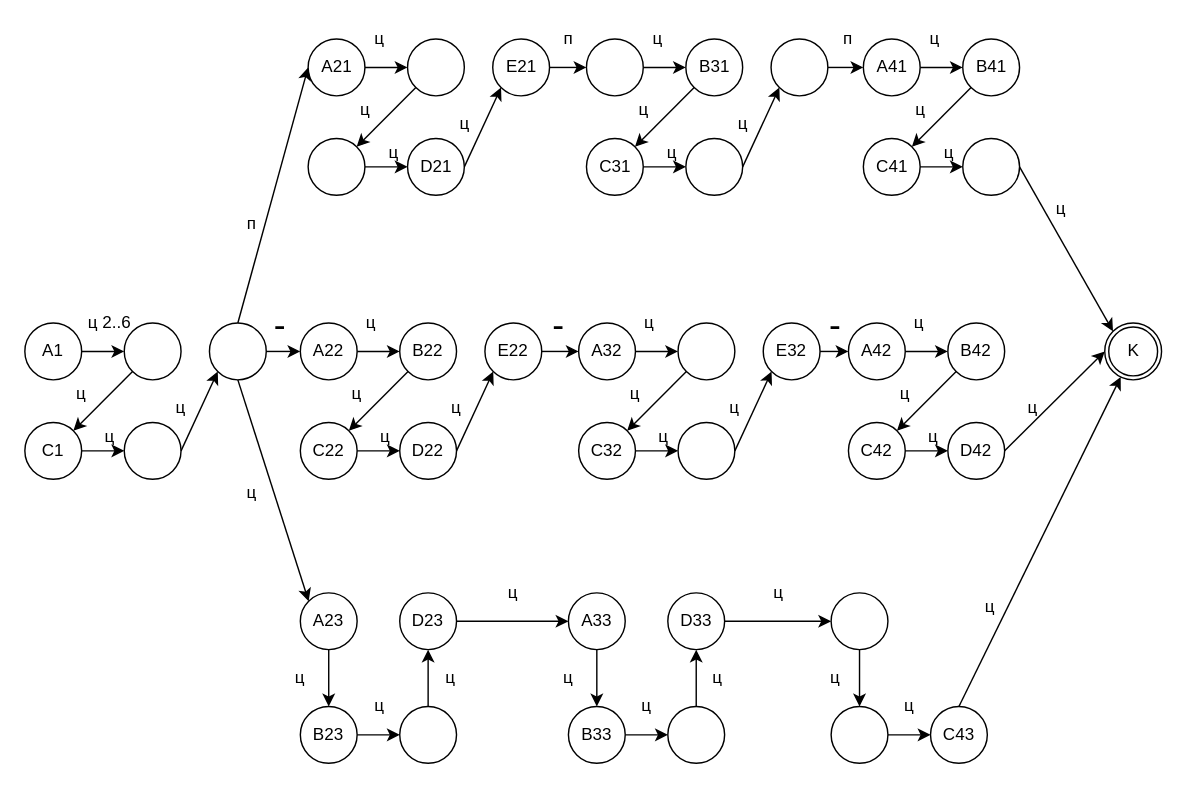
The diagram is 1187 pixels wide and 788 high, and some of its shapes have lost their labels. The centre of each missing label's shape, as x and y in pixels:
"A43" belongs at (859,620).
"B1" belongs at (152,351).
"B21" belongs at (435,67).
"B32" belongs at (706,351).
"B43" belongs at (859,734).
"C21" belongs at (336,166).
"C23" belongs at (427,734).
"C33" belongs at (695,734).
"D1" belongs at (152,450).
"D31" belongs at (713,166).
"D32" belongs at (706,450).
"D41" belongs at (990,166).
"E1" belongs at (237,351).
"E31" belongs at (799,67).
"А31" belongs at (614,67).
